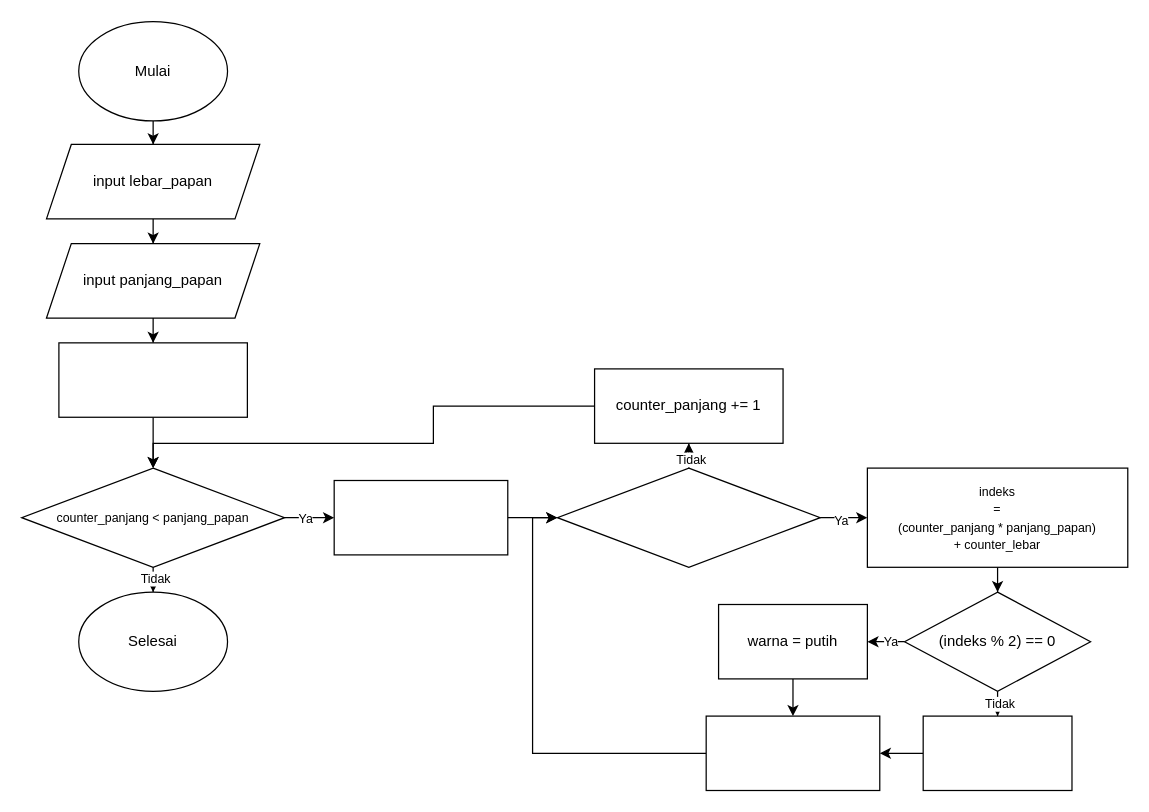
The diagram is 1149 pixels wide and 812 high, and some of its shapes have lost their labels. The shapes that lost their labels are listed below. From the top down, each one's centre as x and y in pixels, then its label:
the point at 152,379: counter_panjang = 0
the point at 420,517: counter_lebar = 1
the point at 688,517: counter_lebar <= lebar_papan
the point at 792,752: counter_lebar += 1
the point at 997,752: warna = hitam
